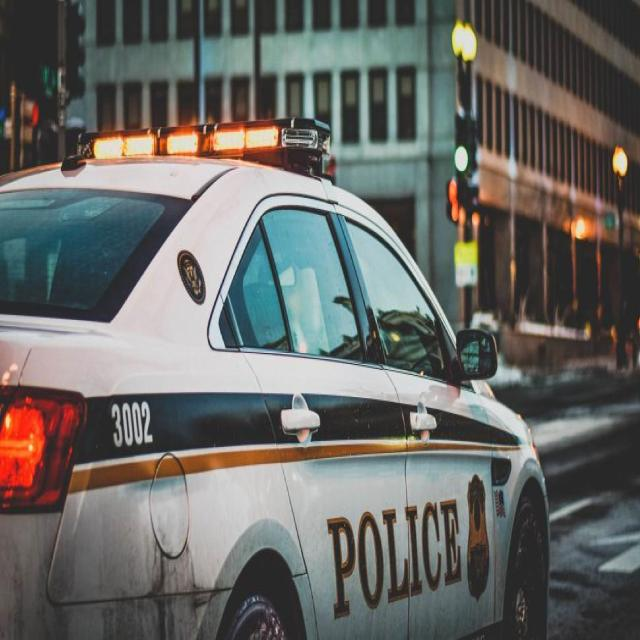cop: (0, 115, 554, 640)
